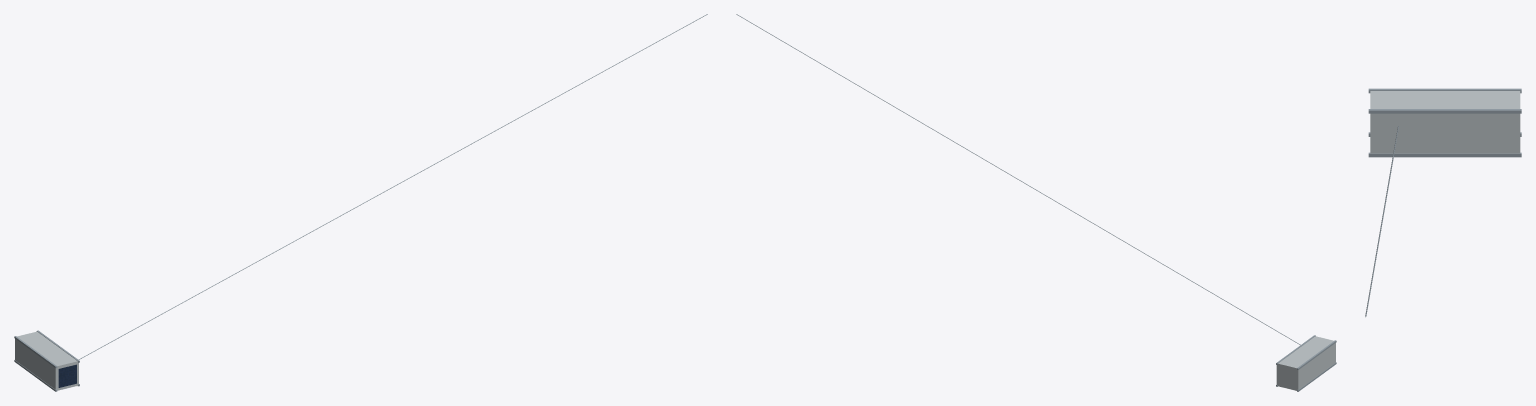
Rendered from ref-cubesat-3u-45115.glb.
3 renders of one model, left to right at view 1: azimuth 30°, elevation 25°; view 2: azimuth 150°, elevation 25°; view 3: azimuth 270°, elevation 25°, orthographic. The views are drawn at different scales.
Parts seen in each view (by area): view 1: Spacecraft body, Antenna boom; view 2: Spacecraft body, Antenna boom; view 3: Spacecraft body, Dispenser rail (×3), Antenna boom.
Part boxes in pixels (<box>): Spacecraft body: <box>15,331,78,390</box>; Antenna boom: <box>78,14,707,359</box>; Spacecraft body: <box>1276,336,1335,390</box>; Antenna boom: <box>736,14,1300,344</box>; Spacecraft body: <box>1370,91,1520,153</box>; Dispenser rail (×3): <box>1368,88,1521,157</box>; Antenna boom: <box>1365,126,1398,317</box>.
Size of the model in its own units: 2.77 by 0.8948 by 0.3131.
3 materials, 1 textured.
